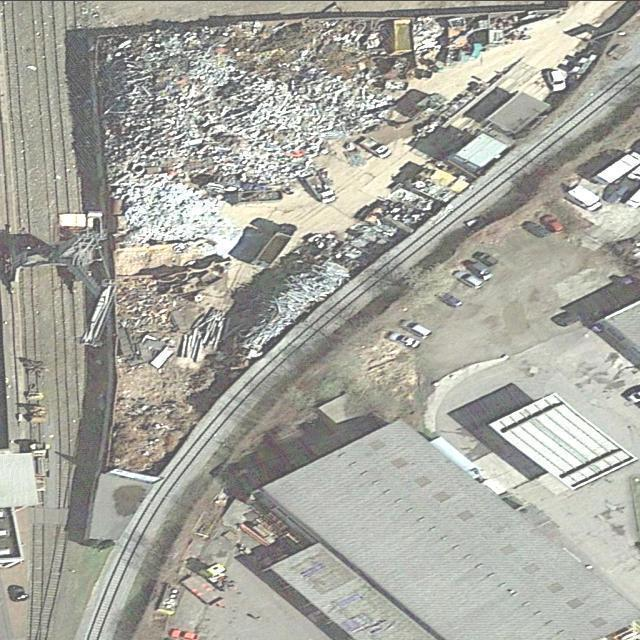dump_site: (99, 17, 408, 241), (229, 178, 450, 351), (98, 365, 235, 482), (117, 263, 240, 366), (416, 11, 545, 71)
